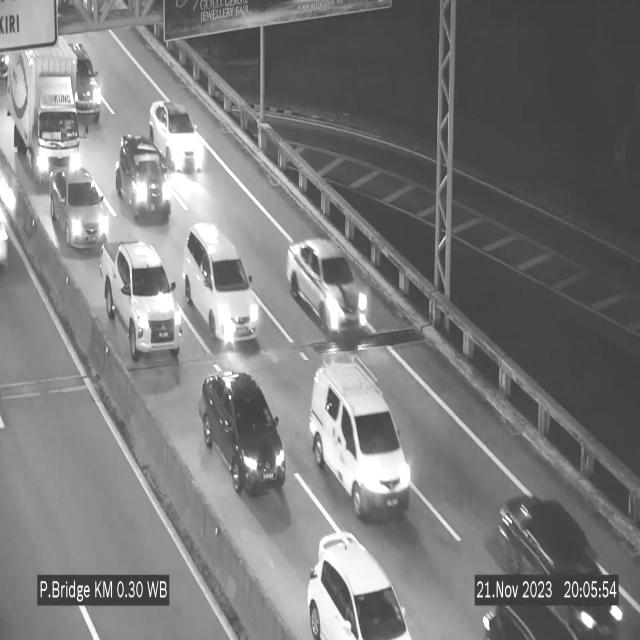Car: (309, 358, 411, 518), (192, 364, 292, 500), (102, 236, 184, 369), (308, 534, 412, 638), (184, 224, 258, 348), (287, 239, 366, 338), (116, 133, 172, 231), (46, 163, 108, 250), (149, 100, 206, 172)
Truck: (7, 40, 78, 182)
